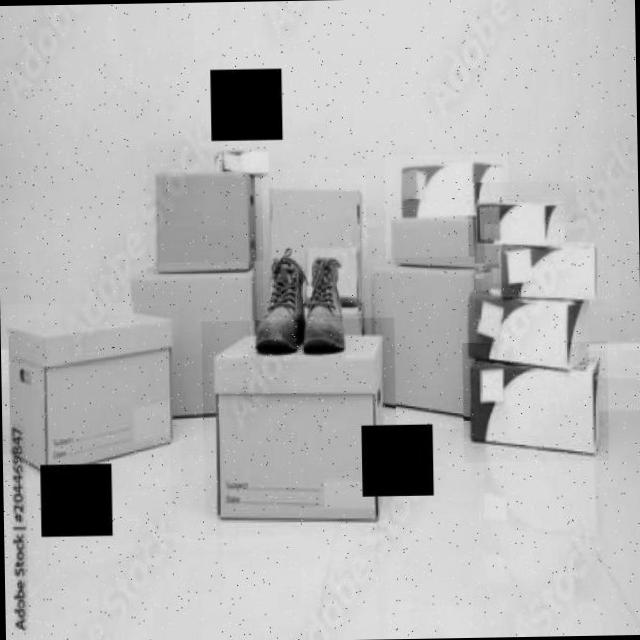box: (202, 318, 398, 535), (2, 301, 181, 487), (126, 260, 266, 442), (362, 256, 478, 432), (144, 138, 269, 290), (462, 341, 609, 463), (384, 153, 511, 280), (261, 165, 368, 315), (458, 281, 590, 380), (484, 222, 620, 304), (468, 180, 577, 264)
